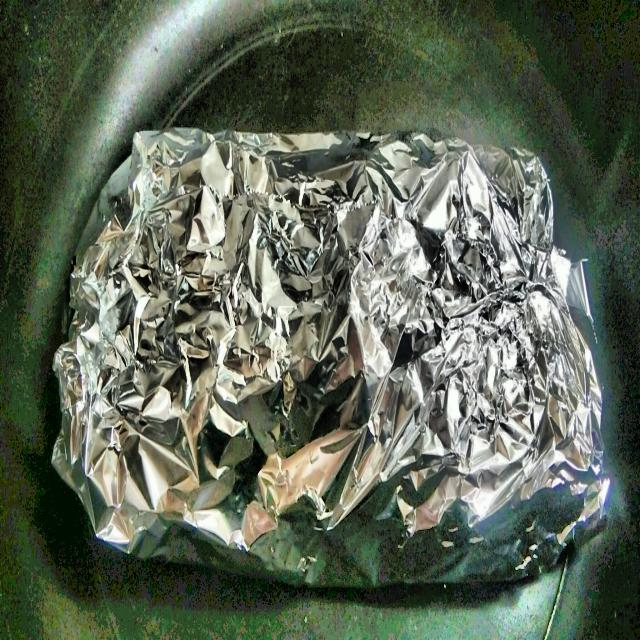Foil: (45, 117, 617, 593)
